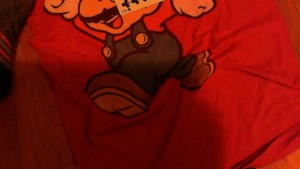NineOfClubs: (113, 1, 162, 18)
